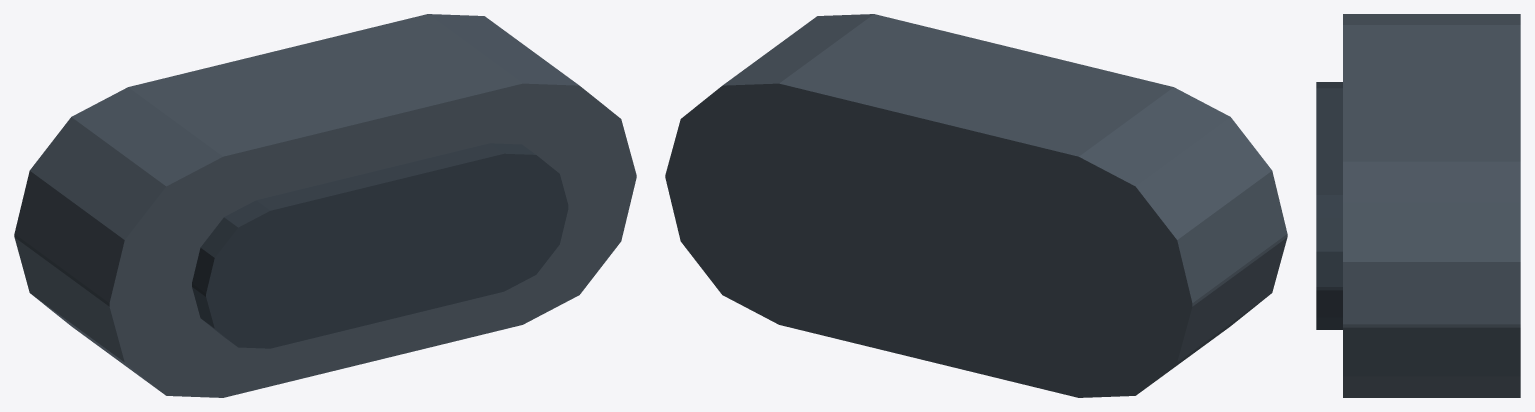
Rendered from Signal_LampOff.gltf.
3 views of the same model, side by side, from view 1: azimuth 30°, elevation 25°; view 2: azimuth 150°, elevation 25°; view 3: azimuth 270°, elevation 25° (orthographic). The views are drawn at different scales.
Parts seen in each view (by area): view 1: Signal_LampOff_baked; view 2: Signal_LampOff_baked; view 3: Signal_LampOff_baked.
Boxes of the visible parts, x1=… form: Signal_LampOff_baked: x1=14, y1=14, x2=636, y2=397; Signal_LampOff_baked: x1=665, y1=14, x2=1287, y2=397; Signal_LampOff_baked: x1=1316, y1=14, x2=1520, y2=397.
Size of the model in its own units: 0.32 by 0.14 by 0.115.
